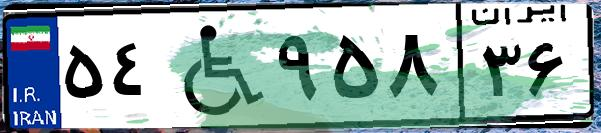3: (475, 38, 525, 113)
4: (110, 28, 158, 98)
5: (330, 28, 385, 110), (57, 26, 110, 100)
6: (525, 38, 570, 115)
8: (385, 28, 445, 110)
9: (270, 28, 330, 110)
ژ (معلولین و جانبازان): (158, 12, 270, 120)
